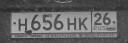license-plateSW: (9, 11, 119, 33)
